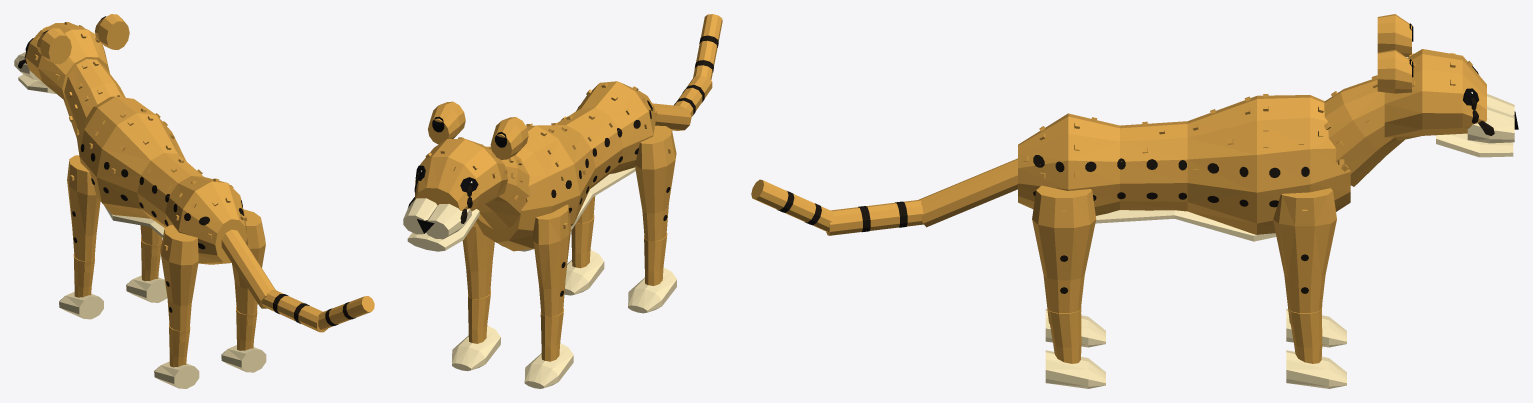
Rendered from Cheetah.fbx.
3 views of the same model, side by side, from view 1: azimuth 30°, elevation 25°; view 2: azimuth 150°, elevation 25°; view 3: azimuth 270°, elevation 25° (orthographic). The views are drawn at different scales.
Visible parts, largest first — view 1: Import3D_Core, Import3D_LegBL, Import3D_Head, Import3D_LegFL, Import3D_Neck, Import3D_Tail, Import3D_LegBR, Import3D_KneeBR, Import3D_KneeFL, Import3D_KneeBL, Import3D_KneeFR, Import3D_Tail1 (+5 smaller); view 2: Import3D_Core, Import3D_Head, Import3D_LegBL, Import3D_LegFL, Import3D_KneeFL, Import3D_KneeBL, Import3D_KneeFR, Import3D_Neck, Import3D_KneeBR, Import3D_LegFR, Import3D_EarL, Import3D_EarR (+4 smaller); view 3: Import3D_Core, Import3D_Head, Import3D_LegBR, Import3D_LegFR, Import3D_Neck, Import3D_KneeBR, Import3D_KneeFR, Import3D_Tail, Import3D_Tail1, Import3D_Tail2, Import3D_EarR, Import3D_EarL (+3 smaller).
Part boxes in pixels (x1=…): Import3D_Core: x1=76, y1=95, x2=247, y2=264; Import3D_LegBL: x1=160, y1=225, x2=198, y2=342; Import3D_Head: x1=14, y1=22, x2=109, y2=100; Import3D_LegFL: x1=67, y1=155, x2=100, y2=272; Import3D_Neck: x1=63, y1=59, x2=125, y2=137; Import3D_Tail: x1=221, y1=229, x2=275, y2=308; Import3D_LegBR: x1=232, y1=209, x2=265, y2=325; Import3D_KneeBR: x1=221, y1=307, x2=266, y2=372; Import3D_KneeFL: x1=59, y1=254, x2=103, y2=319; Import3D_KneeBL: x1=154, y1=323, x2=199, y2=388; Import3D_KneeFR: x1=126, y1=237, x2=167, y2=302; Import3D_Tail1: x1=262, y1=290, x2=327, y2=332; Import3D_Core: x1=476, y1=81, x2=657, y2=251; Import3D_Head: x1=403, y1=137, x2=507, y2=239; Import3D_LegBL: x1=634, y1=125, x2=676, y2=241; Import3D_LegFL: x1=533, y1=204, x2=570, y2=316; Import3D_KneeFL: x1=524, y1=308, x2=573, y2=388; Import3D_KneeBL: x1=628, y1=233, x2=676, y2=313; Import3D_KneeFR: x1=452, y1=290, x2=500, y2=371; Import3D_Neck: x1=477, y1=144, x2=530, y2=229; Import3D_KneeBR: x1=564, y1=215, x2=604, y2=295; Import3D_LegFR: x1=462, y1=221, x2=494, y2=299; Import3D_EarL: x1=490, y1=117, x2=528, y2=159; Import3D_EarR: x1=428, y1=101, x2=465, y2=144; Import3D_Core: x1=1018, y1=94, x2=1350, y2=241; Import3D_Head: x1=1384, y1=49, x2=1518, y2=143; Import3D_LegBR: x1=1032, y1=185, x2=1096, y2=325; Import3D_LegFR: x1=1273, y1=188, x2=1336, y2=325; Import3D_Neck: x1=1324, y1=75, x2=1404, y2=186; Import3D_KneeBR: x1=1045, y1=309, x2=1105, y2=388; Import3D_KneeFR: x1=1286, y1=308, x2=1346, y2=388; Import3D_Tail: x1=918, y1=158, x2=1017, y2=227; Import3D_Tail1: x1=826, y1=200, x2=923, y2=235; Import3D_Tail2: x1=751, y1=179, x2=833, y2=232; Import3D_EarR: x1=1377, y1=50, x2=1413, y2=93; Import3D_EarL: x1=1377, y1=14, x2=1413, y2=56.
Size of the model in its own units: 88.76 by 227 by 476.
Materials: 1 (1 with a texture image).
